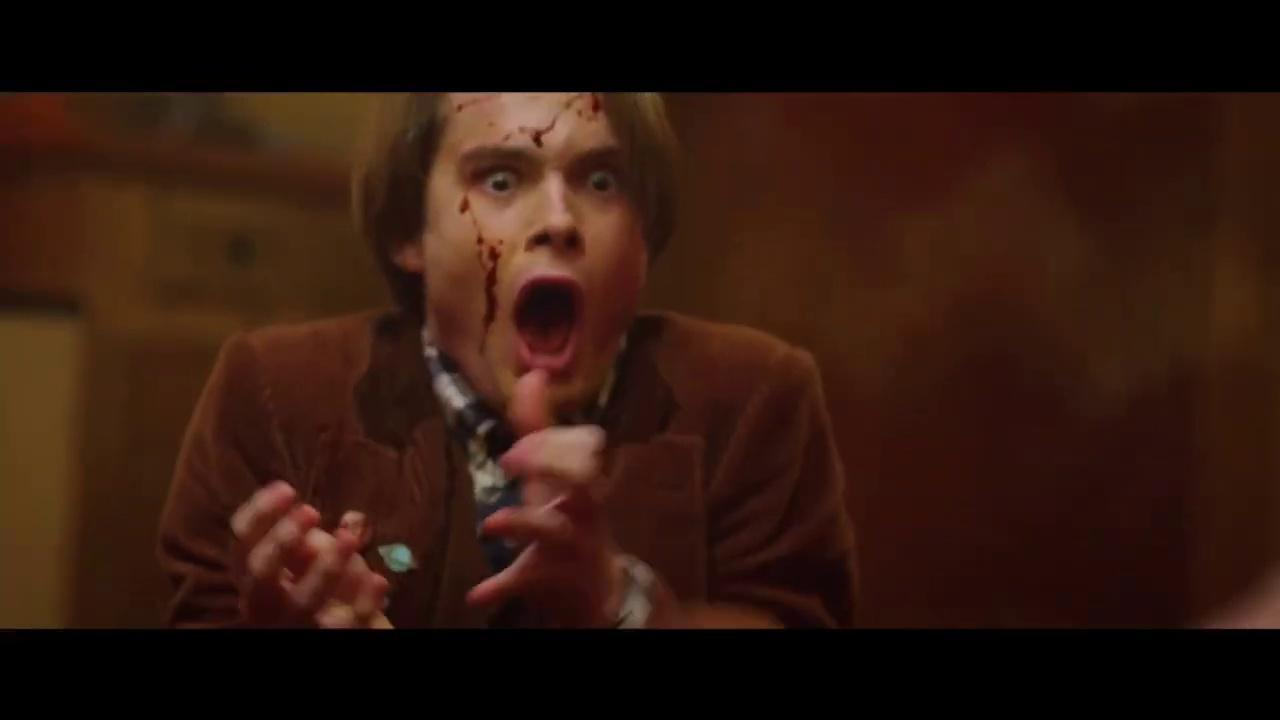Fire: (494, 94, 603, 151), (477, 229, 503, 355), (465, 208, 488, 232), (456, 98, 492, 111), (459, 196, 468, 214)
